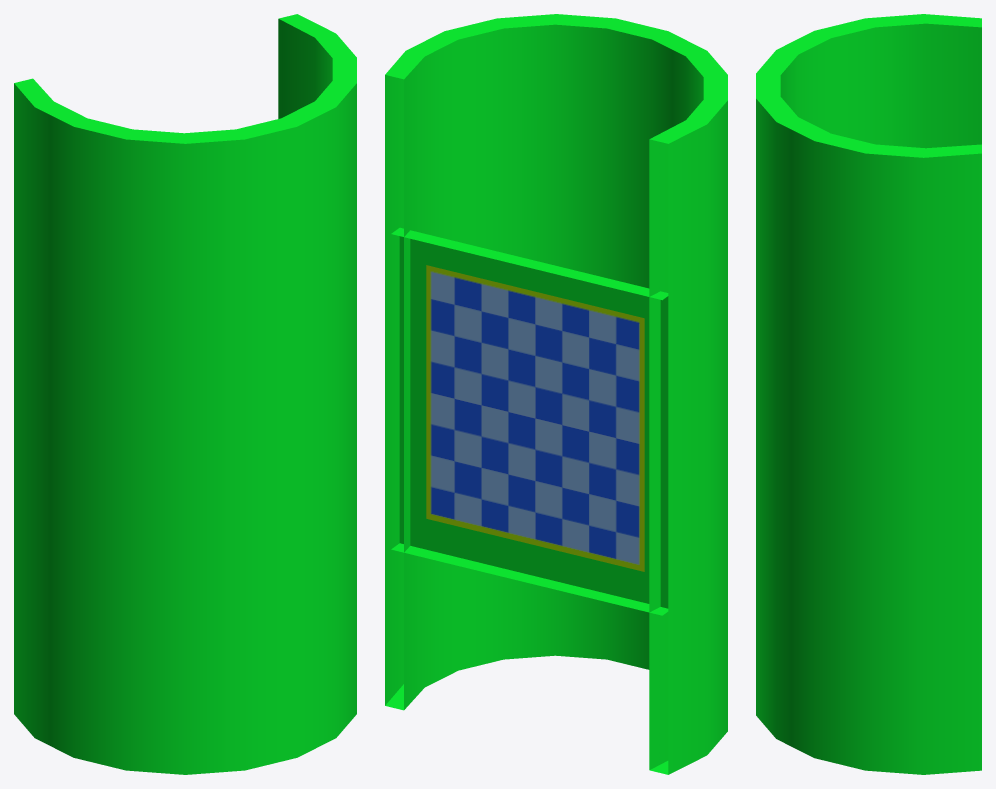
File: LightWall06_1.FBX
3 renders of one model, left to right at view 1: azimuth 30°, elevation 25°; view 2: azimuth 150°, elevation 25°; view 3: azimuth 270°, elevation 25°, orthographic. The views are drawn at different scales.
Visible parts, largest first — view 1: LightWall06_1; view 2: LightWall06_1; view 3: LightWall06_1.
Part boxes in pixels (box(x1,y1,x2,y2)): LightWall06_1: box(14, 14, 356, 774); LightWall06_1: box(385, 14, 727, 774); LightWall06_1: box(756, 14, 981, 774).
Bounding box in the file's own units: 10 × 20 × 6.63.
